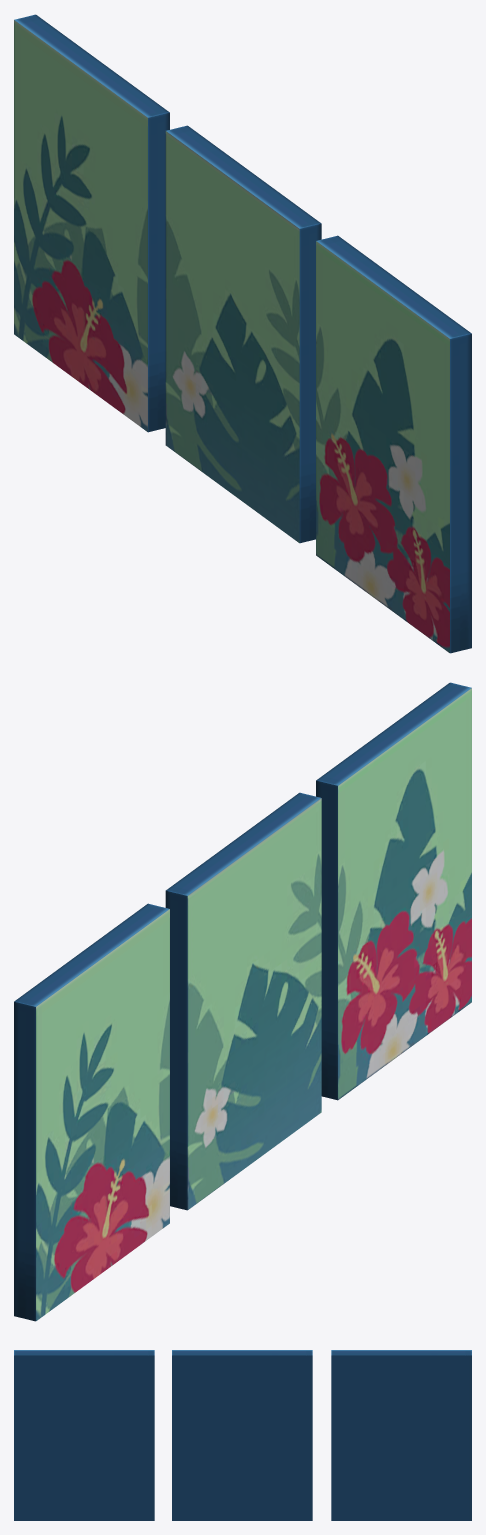
File: my_poolparty_01_b_wall_acc_01.glb
3 renders of one model, top to bottom at view 1: azimuth 30°, elevation 25°; view 2: azimuth 150°, elevation 25°; view 3: azimuth 270°, elevation 25°, orthographic. The views are drawn at different scales.
Visible parts, largest first — view 1: my_poolparty_01_b_wall_acc_01; view 2: my_poolparty_01_b_wall_acc_01; view 3: my_poolparty_01_b_wall_acc_01.
Part boxes in pixels (x1,y1,x2,y2): my_poolparty_01_b_wall_acc_01: (14, 14, 471, 653); my_poolparty_01_b_wall_acc_01: (14, 682, 471, 1321); my_poolparty_01_b_wall_acc_01: (14, 1350, 471, 1520).
Size of the model in its own units: 0.000537 by 0.00735 by 0.0185.
1 material, 1 textured.
